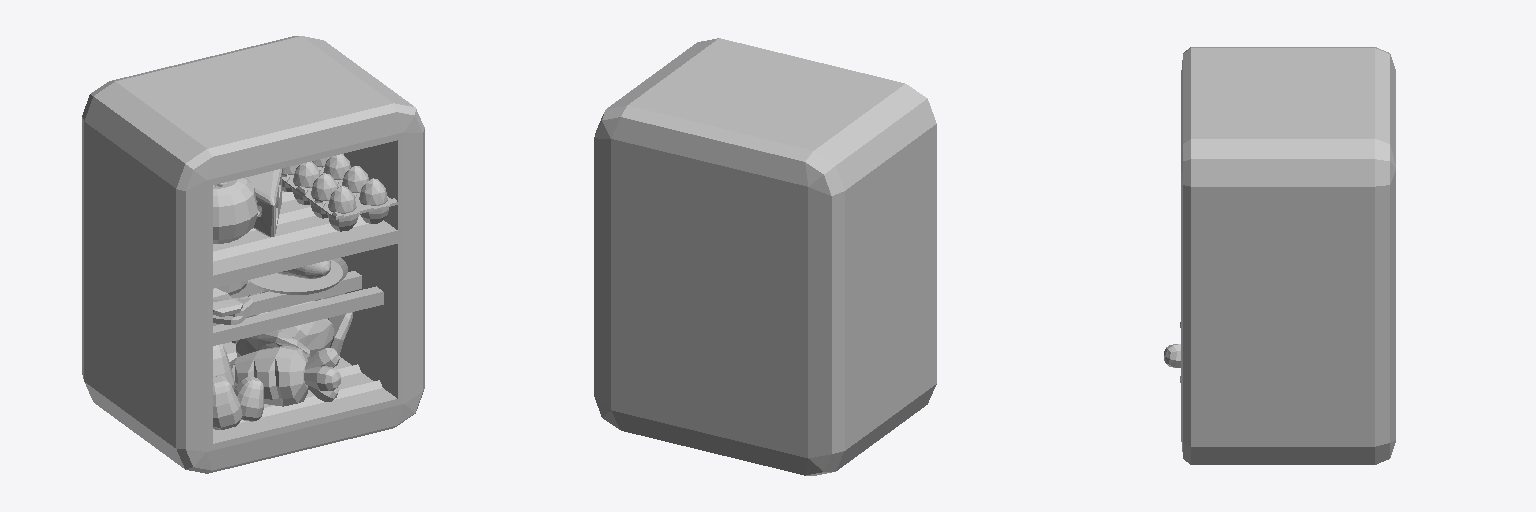
Rendered from frigde_edited.obj.
The picture shows the model from 3 angles: view 1: azimuth 30°, elevation 25°; view 2: azimuth 150°, elevation 25°; view 3: azimuth 270°, elevation 25°; orthographic projection.
Parts seen in each view (by area): view 1: Sphere; view 2: Sphere; view 3: Sphere.
Part boxes in pixels (bbox=[...]): Sphere: bbox=[82, 36, 424, 473]; Sphere: bbox=[594, 38, 936, 475]; Sphere: bbox=[1164, 47, 1395, 464].
Size of the model in its own units: 2 by 2.5 by 1.62.